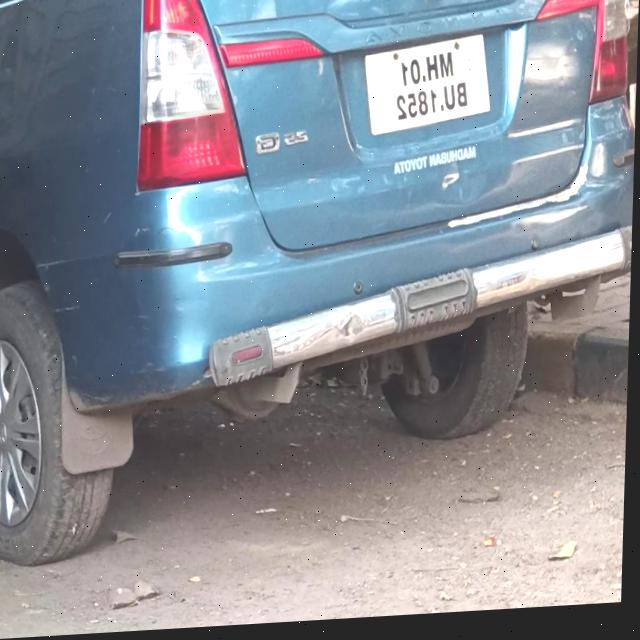plate: (363, 36, 495, 141)
